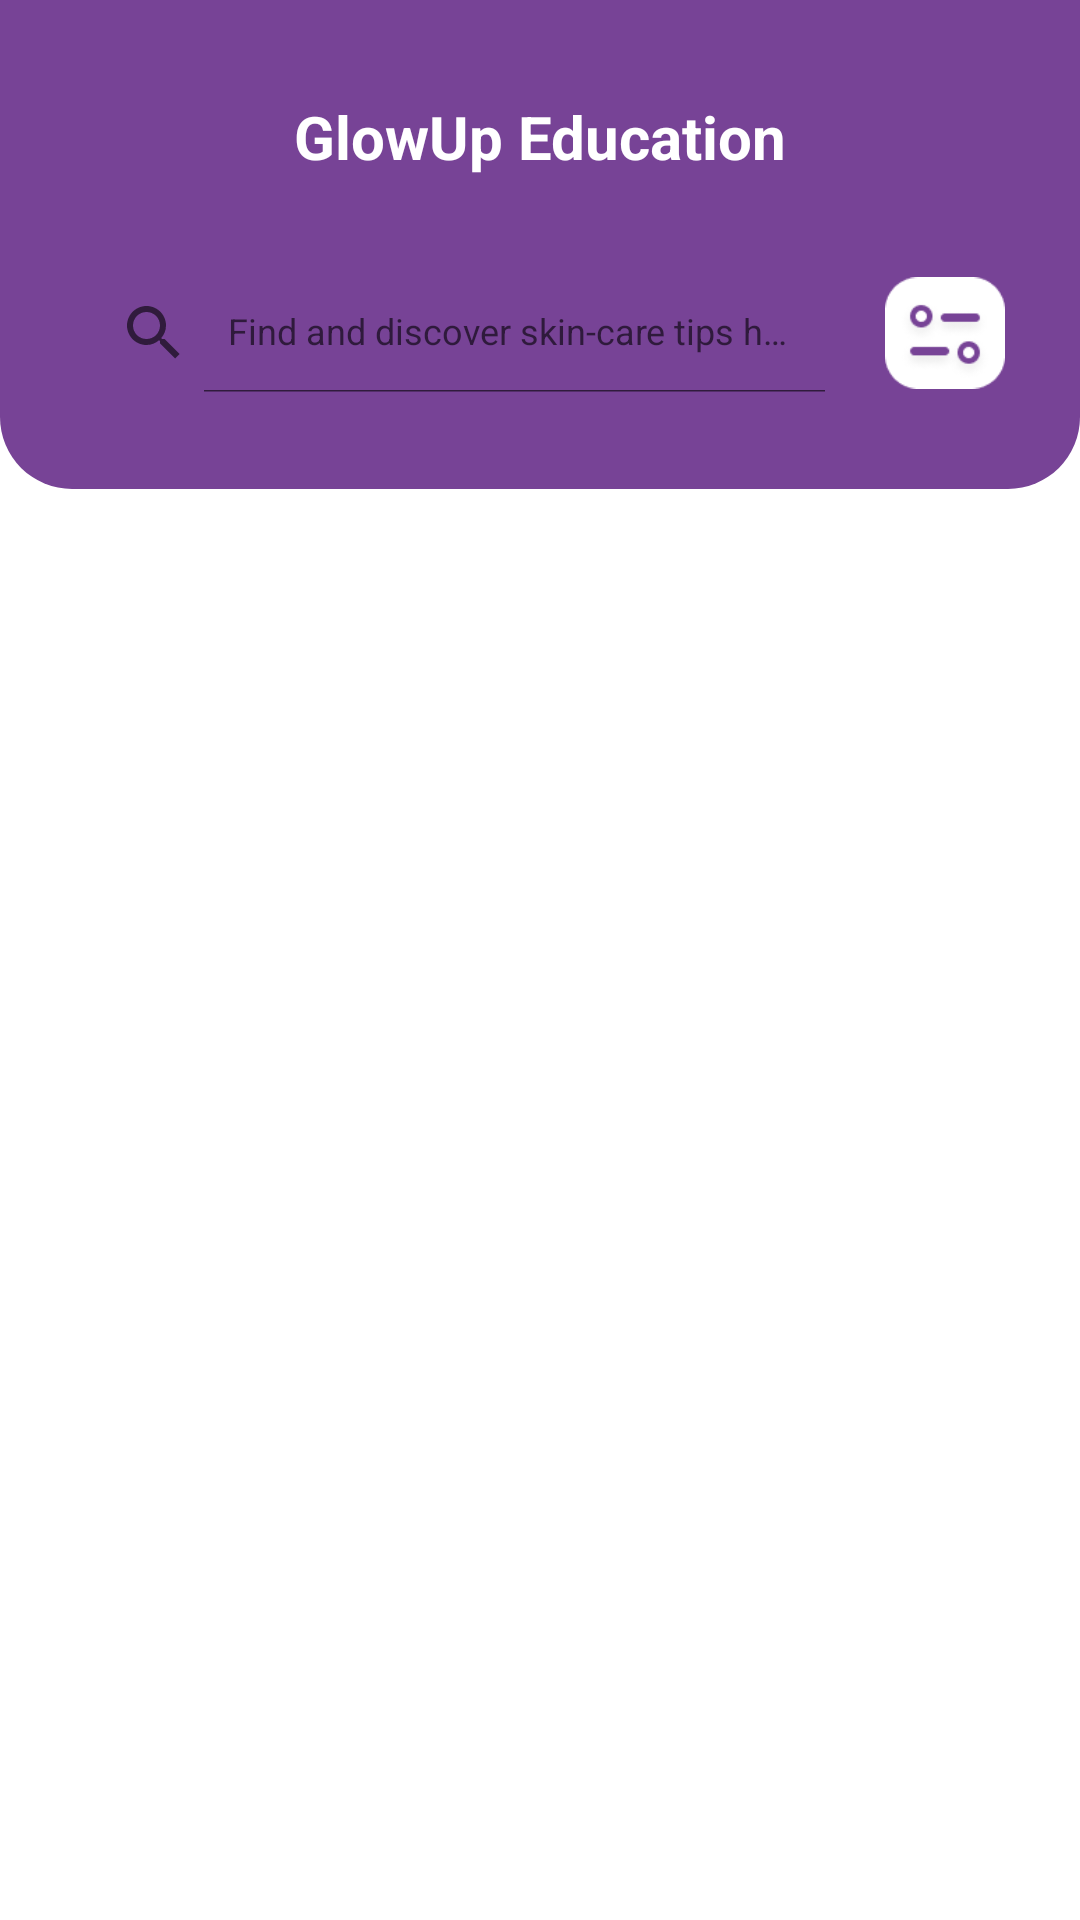

Icons on this 1080*1920 Android screen, each with its box as (x1, y1, x2, y2):
filter: (885, 277, 1005, 389)
